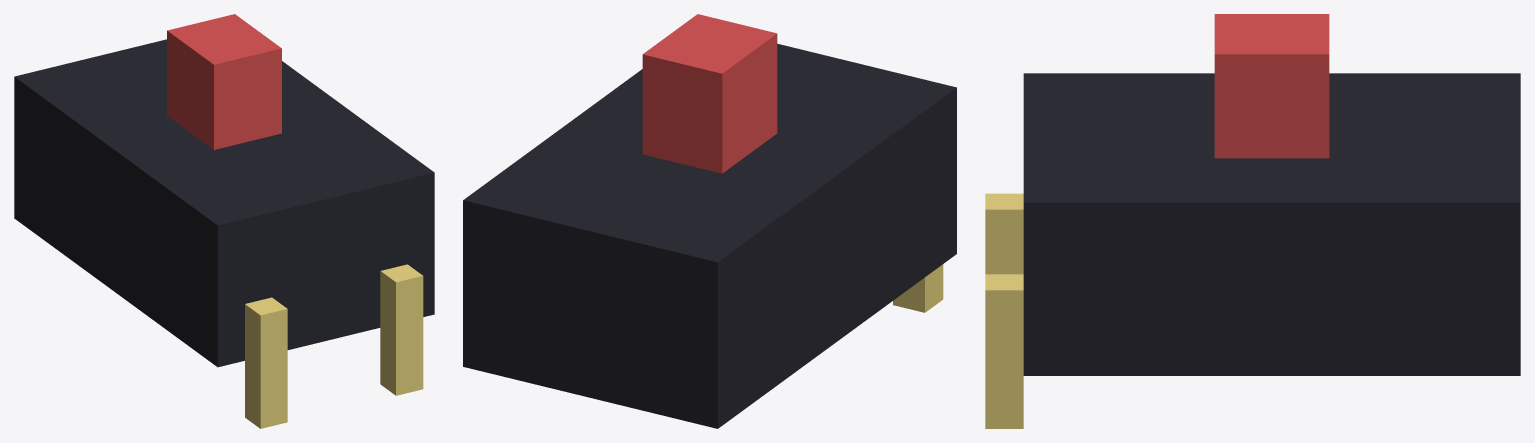
Rendered from switch_p.glb.
The picture shows the model from 3 angles, left to right: view 1: azimuth 30°, elevation 25°; view 2: azimuth 150°, elevation 25°; view 3: azimuth 270°, elevation 25°; orthographic projection. The views are drawn at different scales.
Visible parts, largest first — view 1: Switch; view 2: Switch; view 3: Switch.
Part boxes in pixels (bbox=[...]): Switch: bbox=[14, 14, 434, 428]; Switch: bbox=[463, 14, 956, 428]; Switch: bbox=[985, 14, 1520, 428].
Size of the model in its own units: 8 by 10 by 14.
